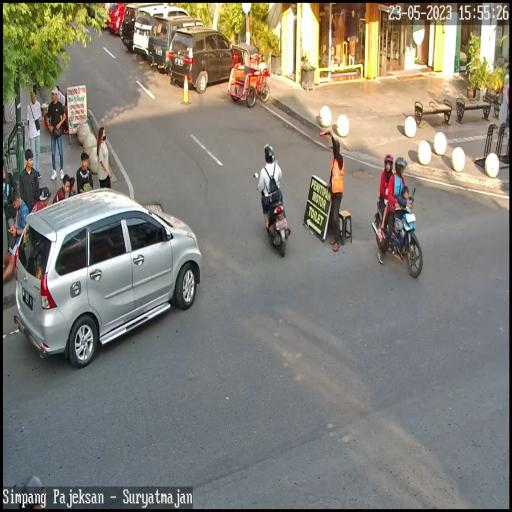mobil: (14, 187, 203, 366), (169, 24, 238, 92), (131, 1, 195, 69), (149, 13, 209, 78)
motor: (370, 181, 426, 286), (252, 163, 293, 257)
